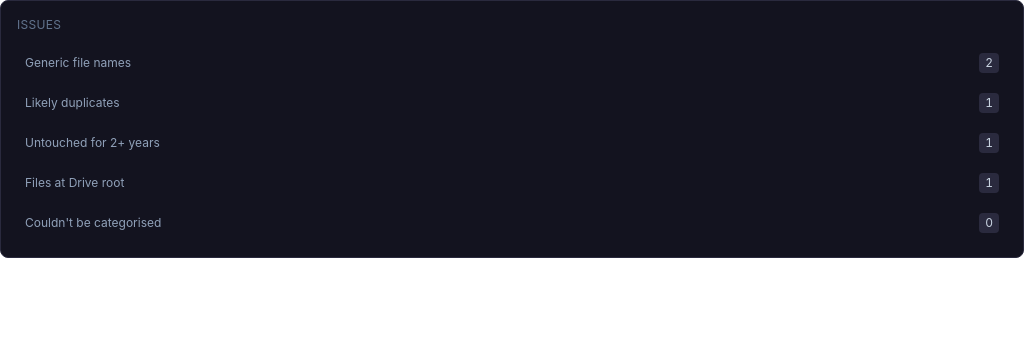
Test case: IssuesPanel › expands a group on click to show file names
Click the text "Generic file names" at (78, 63), box [25,55,131,71]
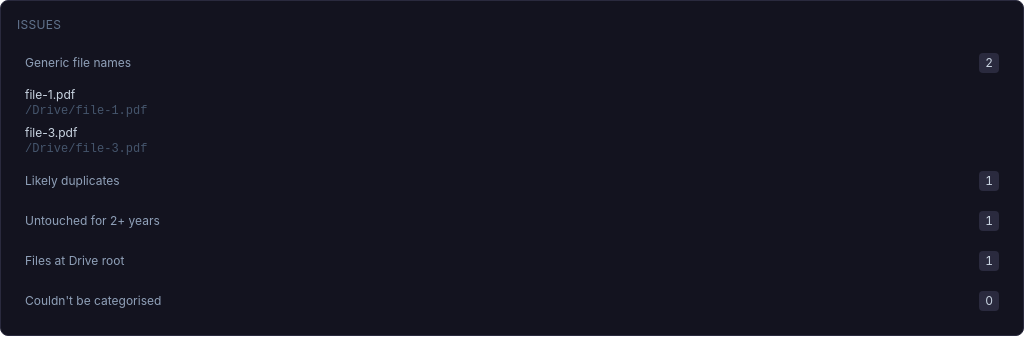
Expected: the text "file-1.pdf" is shown, [25,87,75,102]
Expected: the text "file-3.pdf" is shown, [25,125,77,140]
